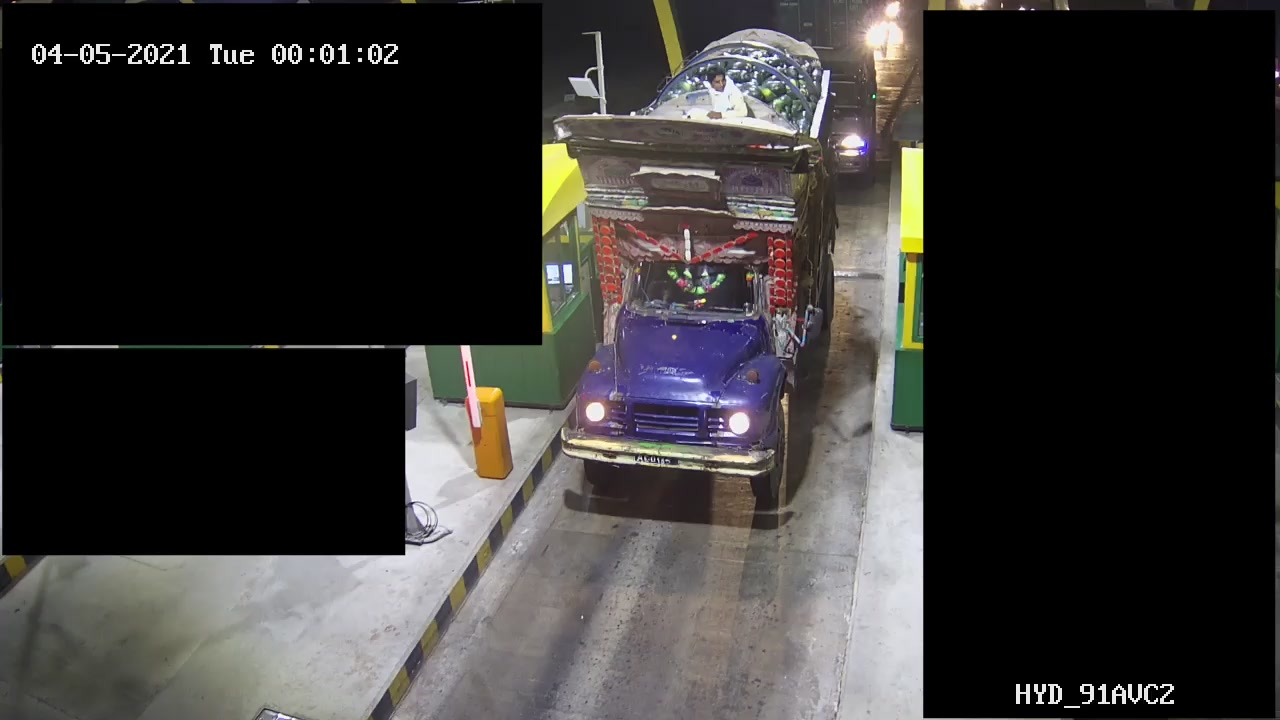F5: (548, 22, 835, 503)
